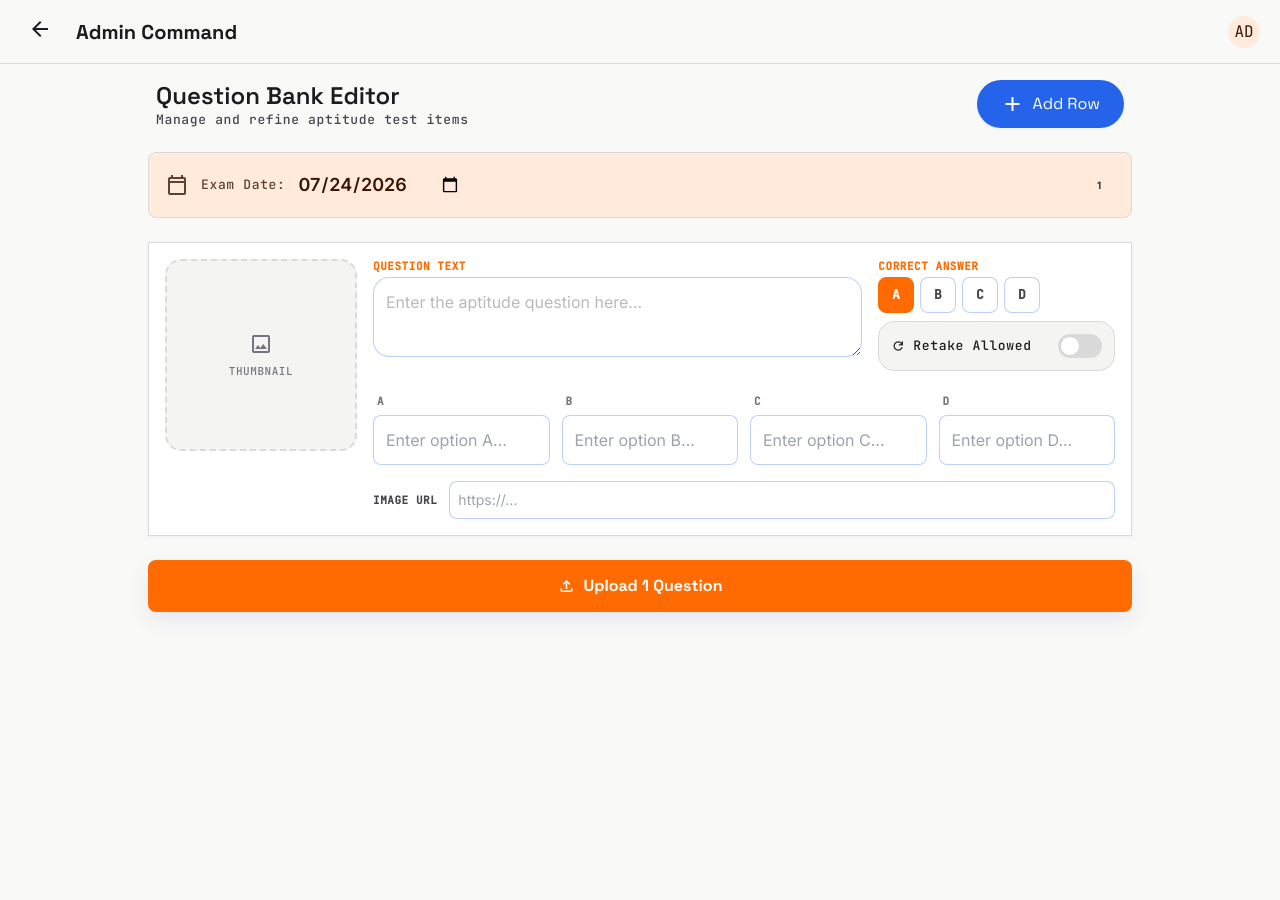
Test: TeacherUpload › shows success message after upload
The width and height of the screenshot is (1280, 900).
Type "Test Q" into the text box with placeholder "Enter the aptitude question here...".
click(618, 317); type("Test Q")  # box left=373, top=277, right=862, bottom=357
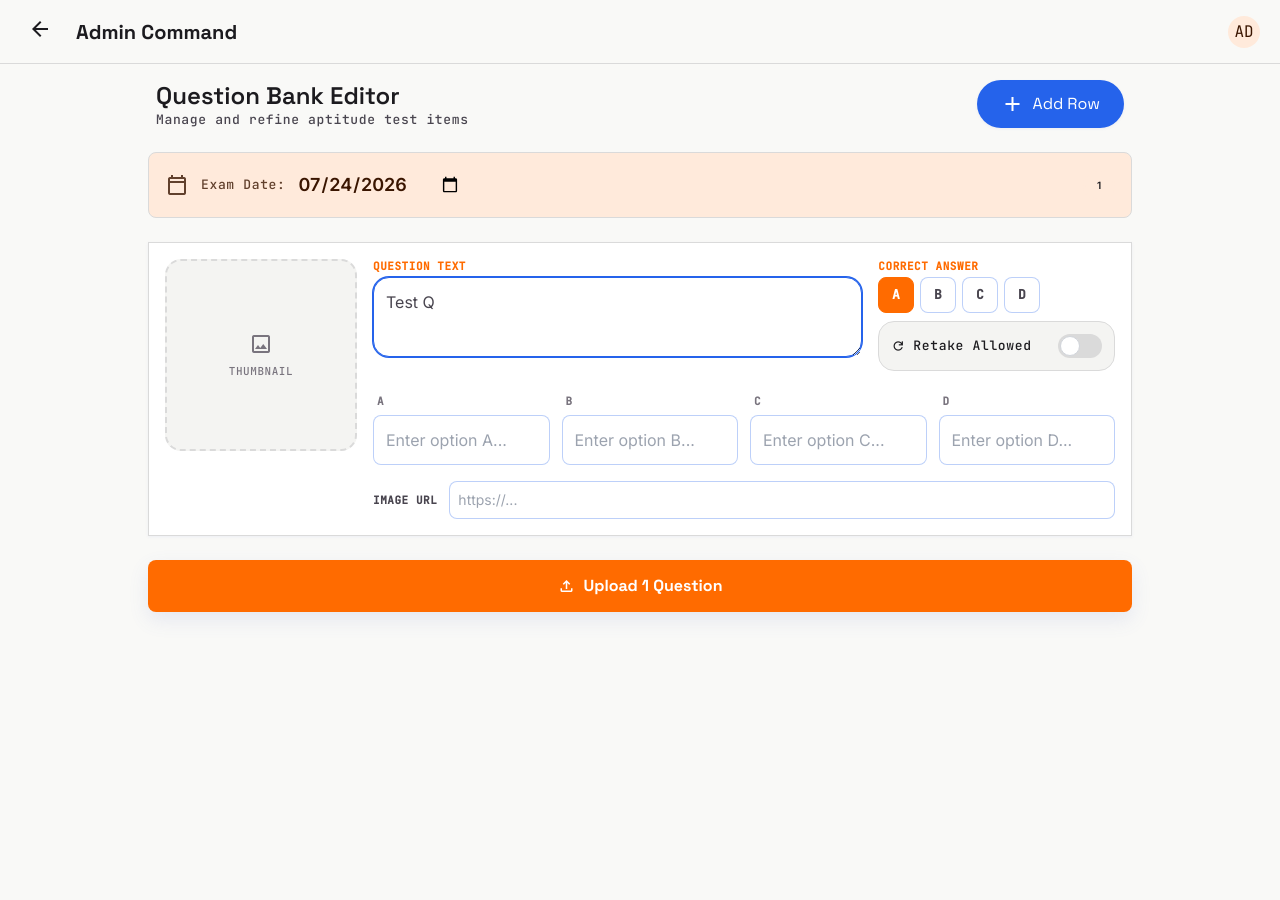
Type "A" into the field with placeholder "Enter option A...".
click(461, 440); type("A")  # box left=373, top=415, right=550, bottom=465
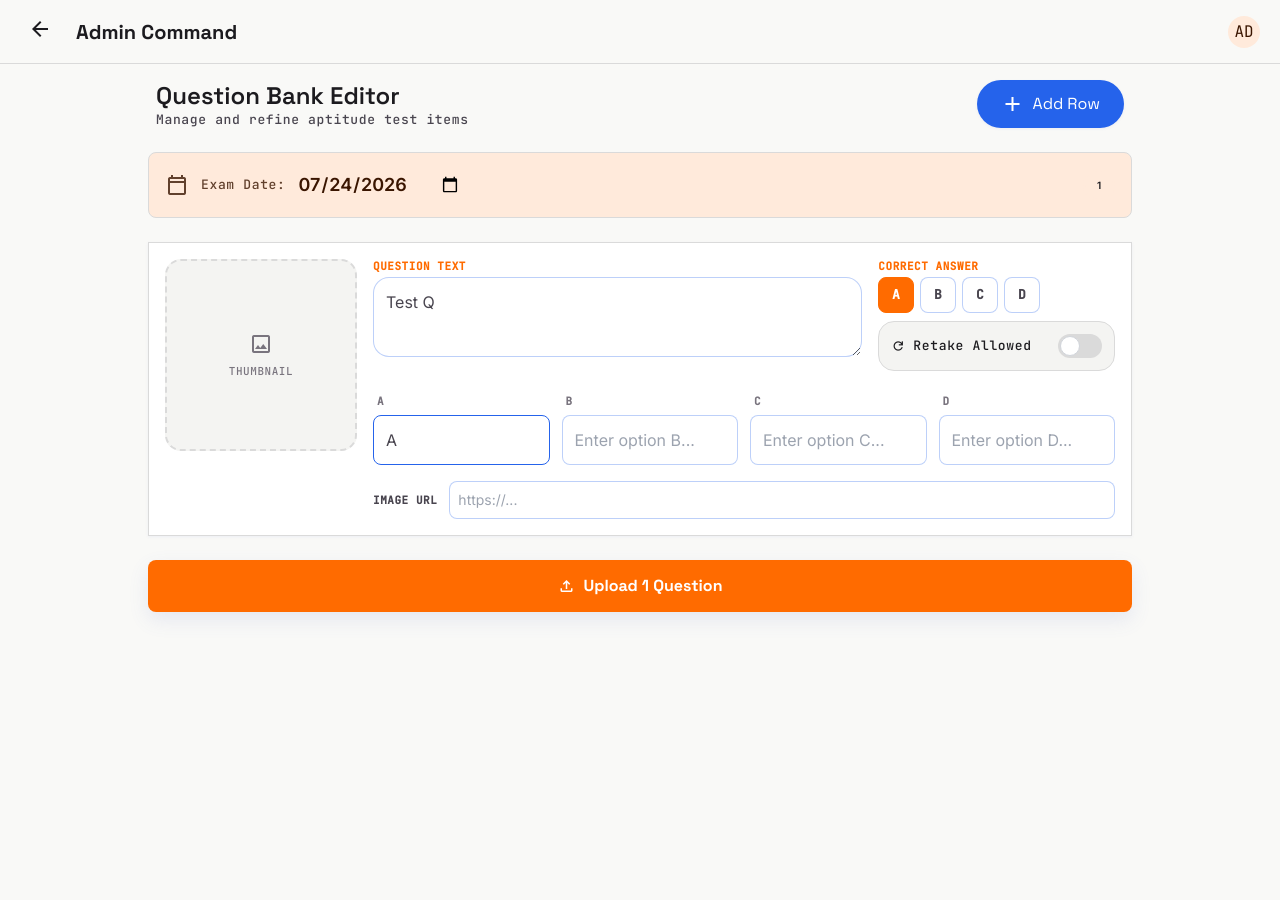
Type "B" into the field with placeholder "Enter option B...".
click(650, 440); type("B")  # box left=562, top=415, right=738, bottom=465
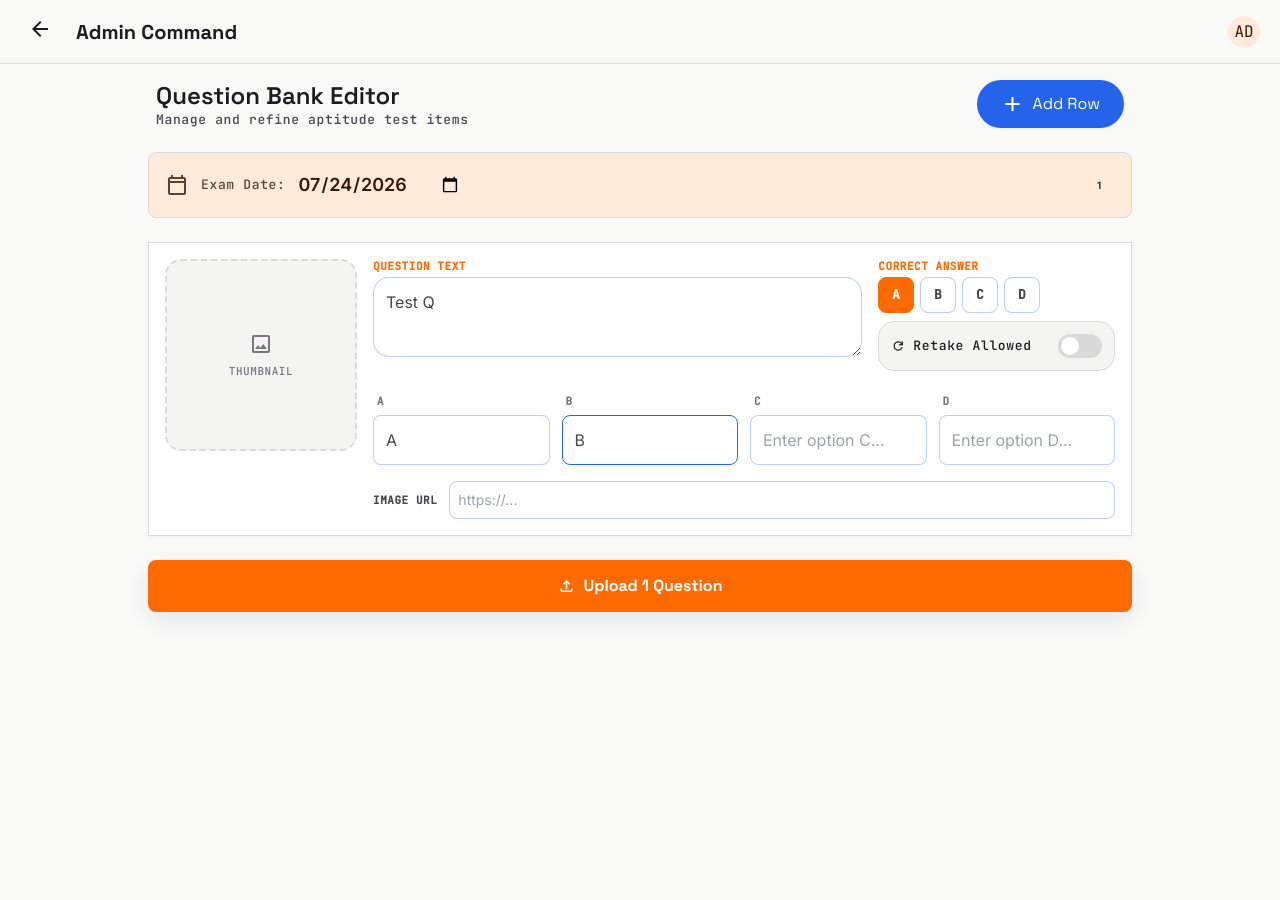
Type "C" into the field with placeholder "Enter option C...".
click(838, 440); type("C")  # box left=750, top=415, right=926, bottom=465
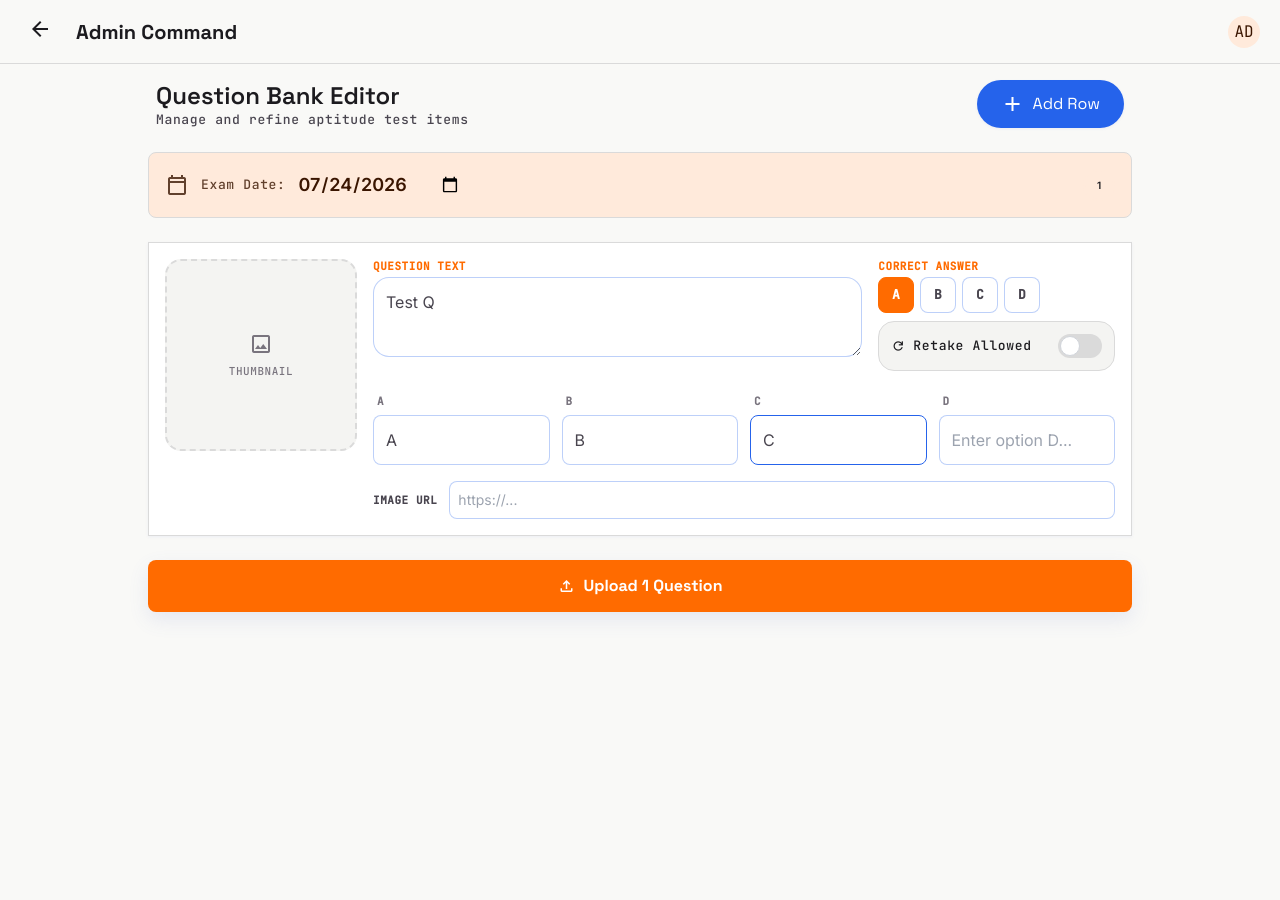
Type "D" into the field with placeholder "Enter option D...".
click(1027, 440); type("D")  # box left=938, top=415, right=1115, bottom=465
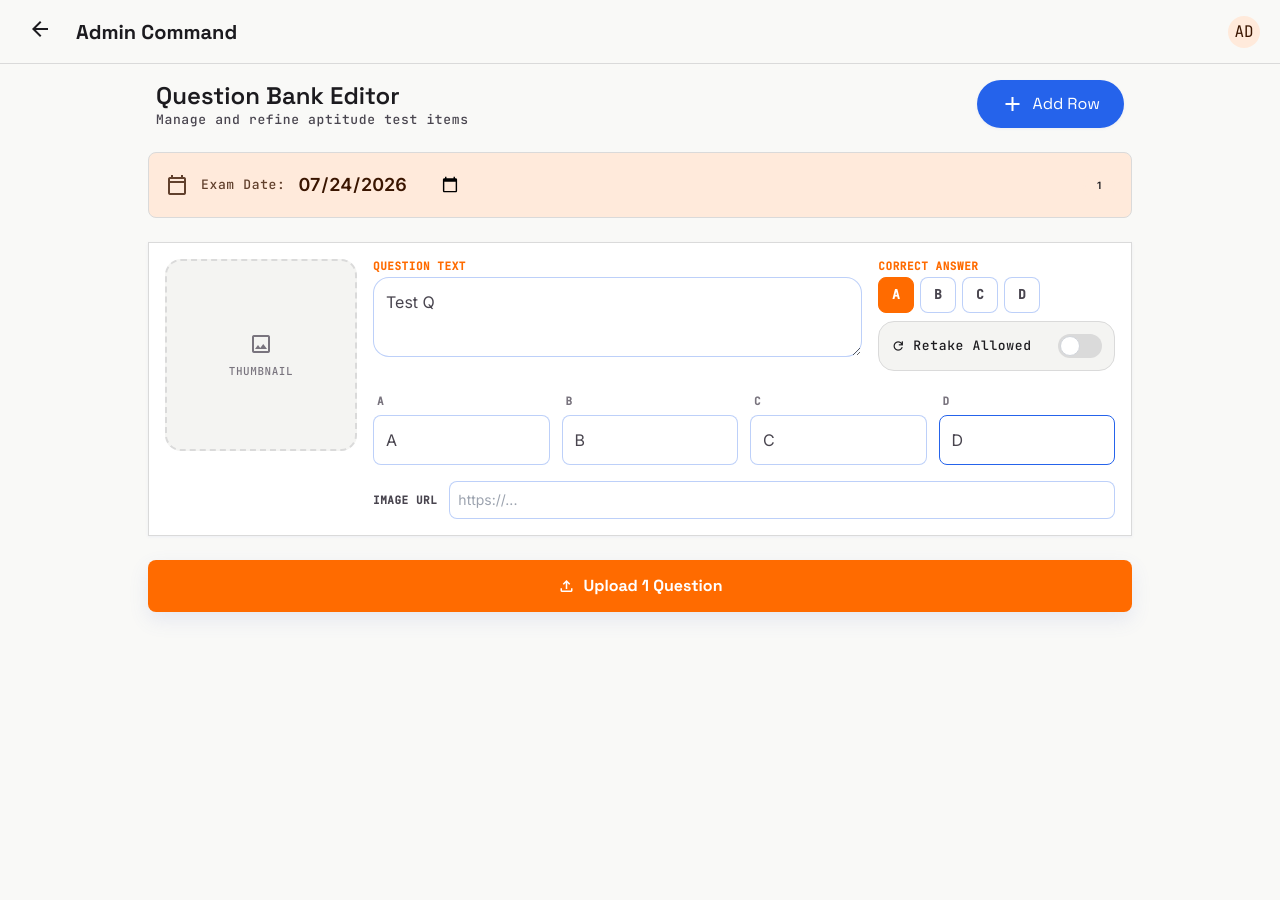
Click the button "Upload 1 Question".
click(640, 586)  # box left=148, top=560, right=1132, bottom=612
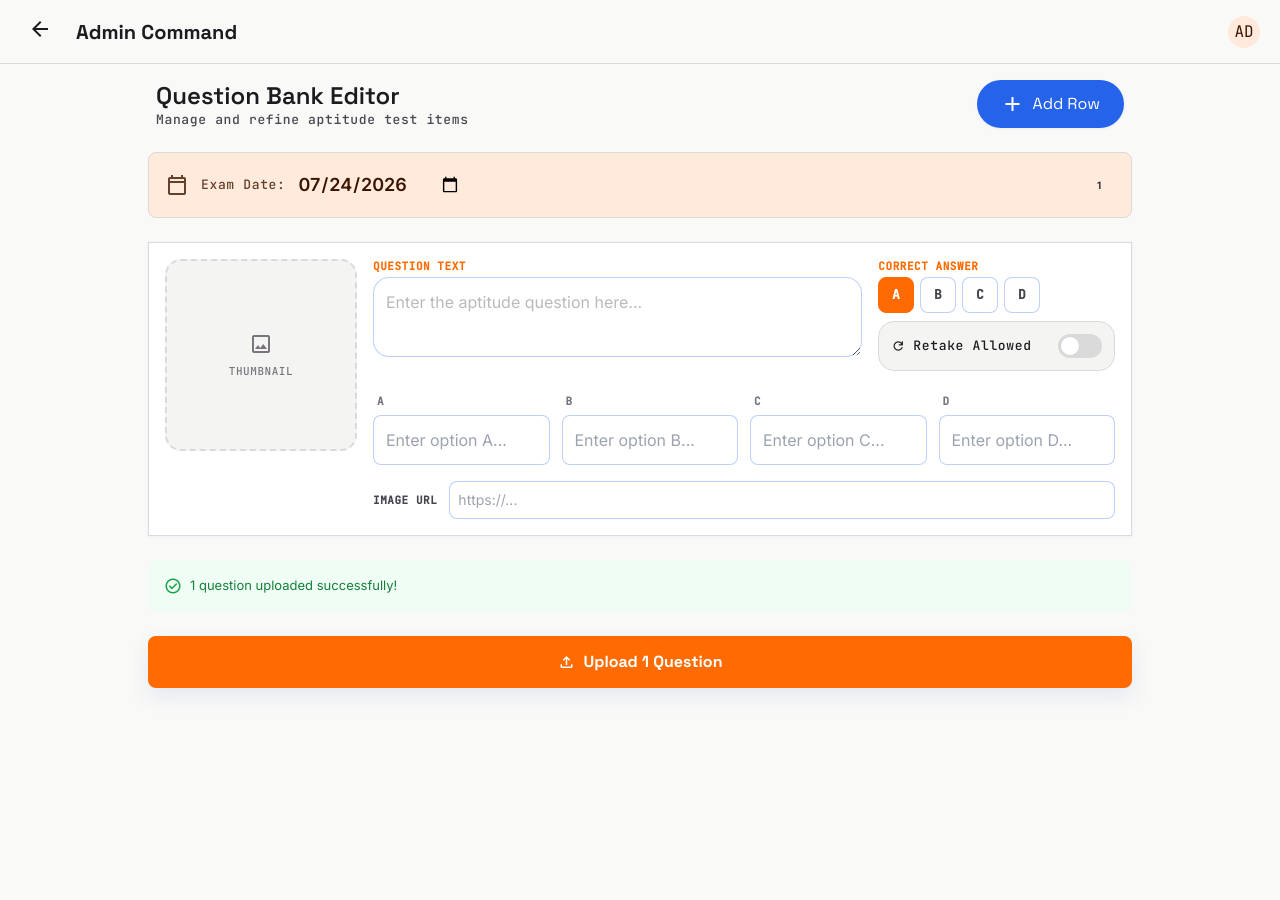
Result: the text "1 question uploaded successfully!" is shown at left=190, top=576, right=397, bottom=596
